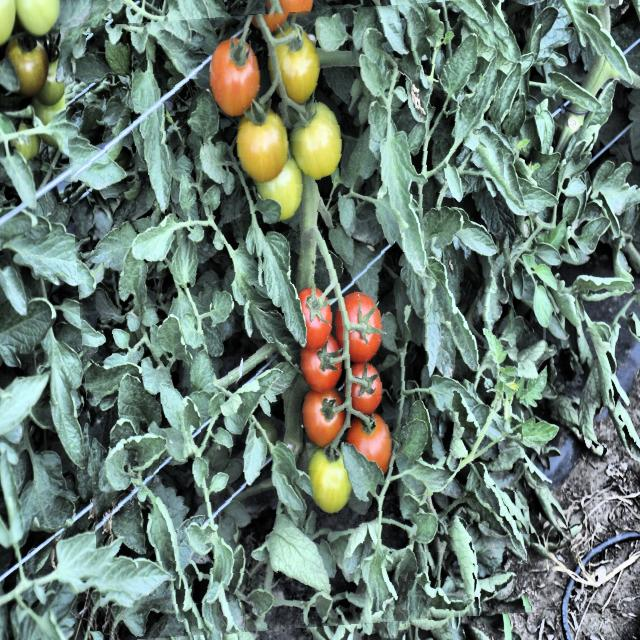tomato: (71, 5, 524, 634)
